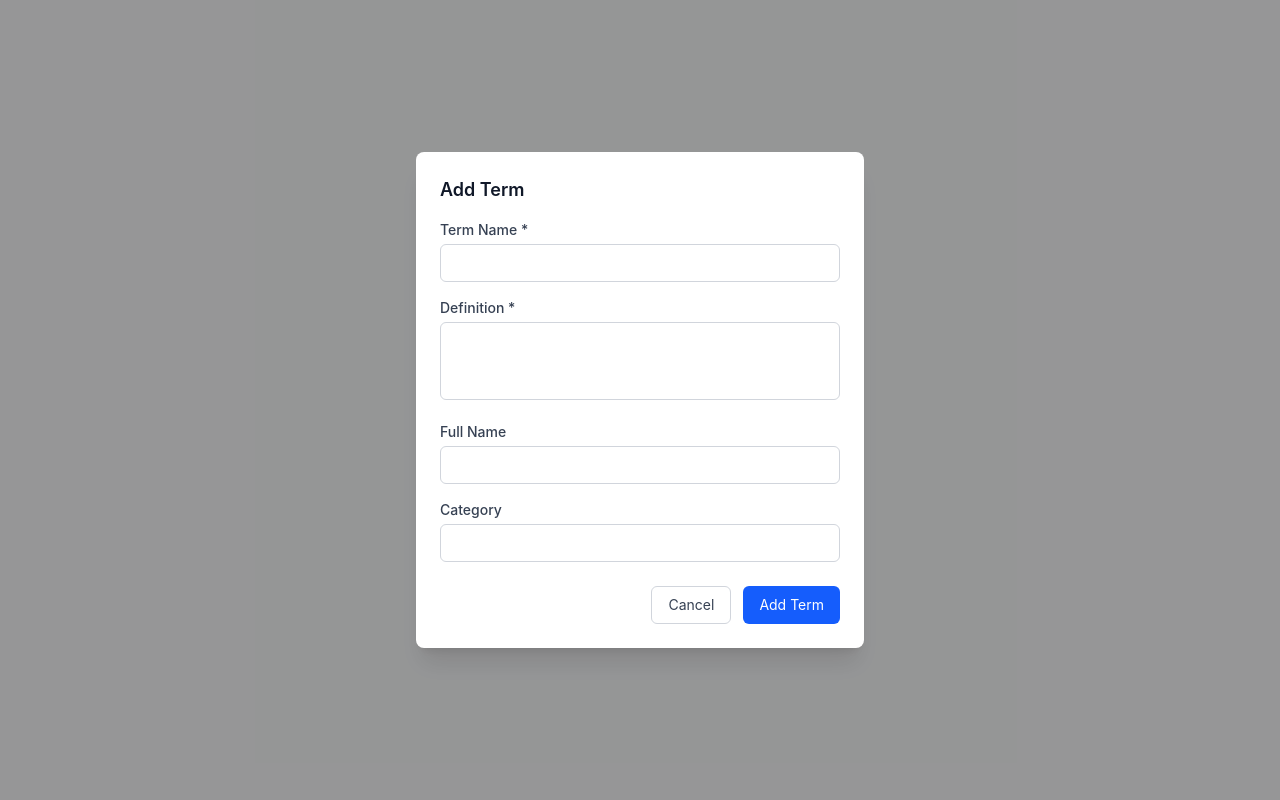
it: AddTermModal › validates required fields — shows error when name is empty on submit
This screenshot has width=1280, height=800.
Click the button "Add Term" at (792, 605), box [743, 586, 840, 624]
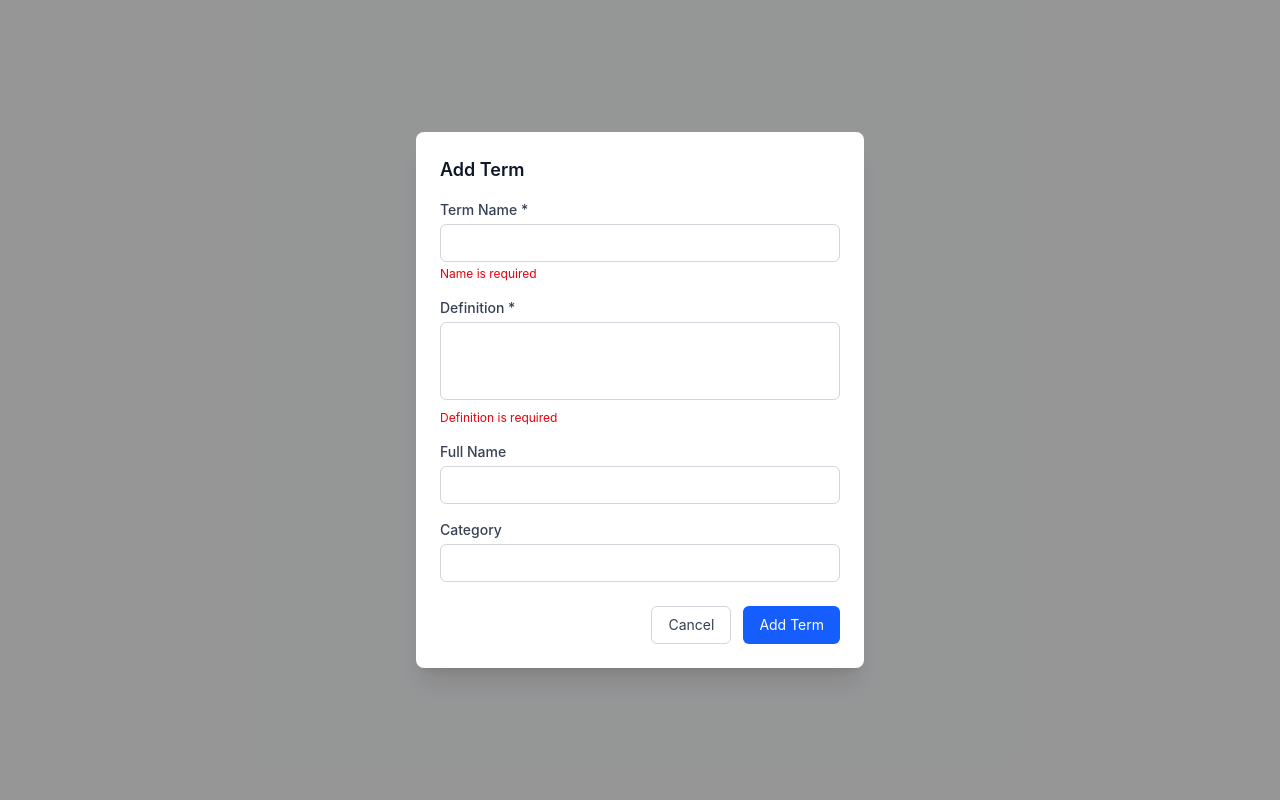
Check: the text "Name is required" is shown, box [440, 266, 537, 281]
